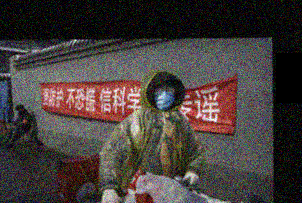with_mask: (153, 82, 176, 111)
